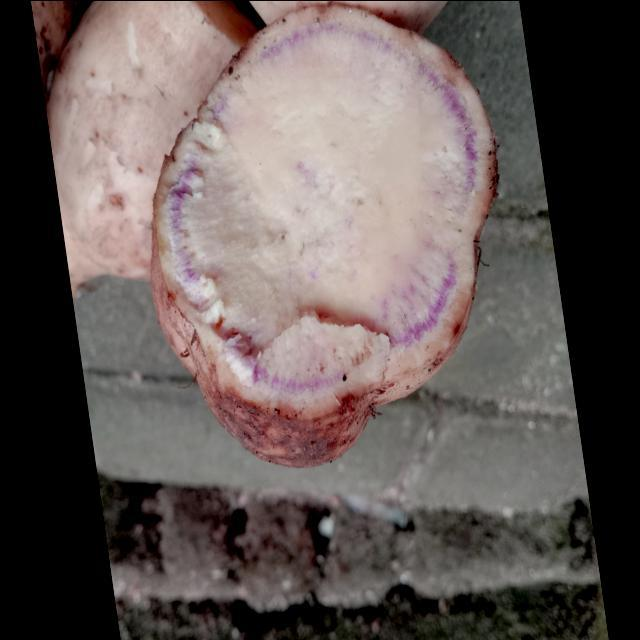Healthy Sweet Potato: (152, 5, 498, 417)
